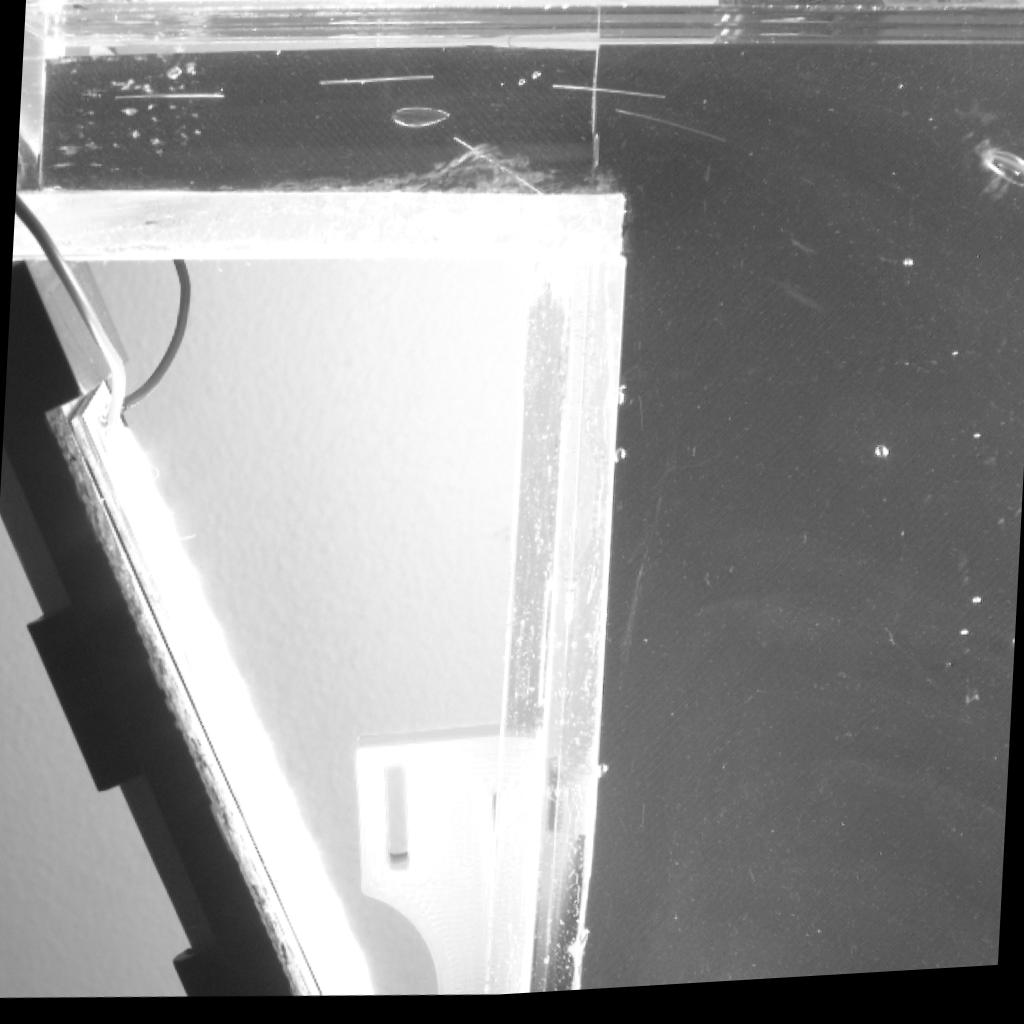Fiber: (458, 142, 554, 205), (615, 113, 729, 156), (552, 88, 667, 108), (315, 79, 438, 96), (112, 95, 223, 104)
